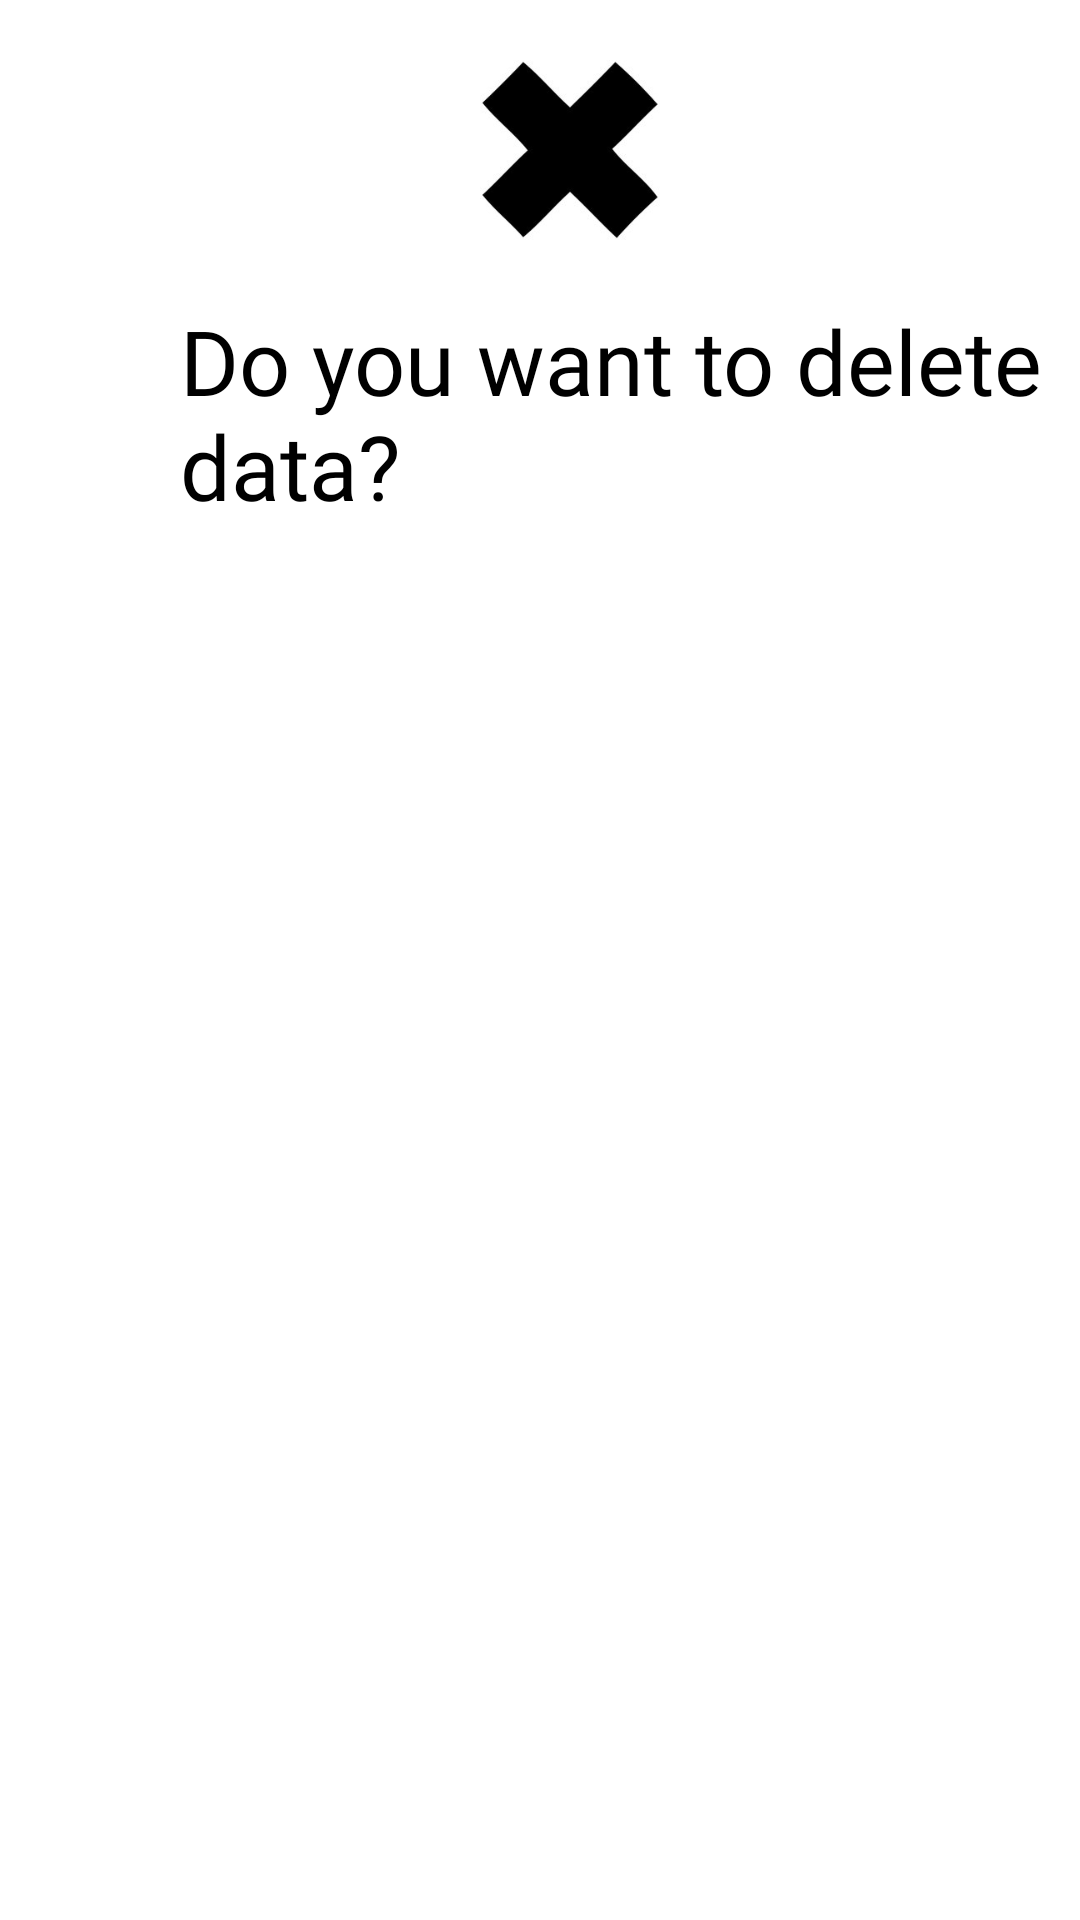

Icon bounding boxes for this 1080x1920 phone screenshot, format (x1, y1, x2, y2):
deleteeee: (482, 62, 658, 238)
